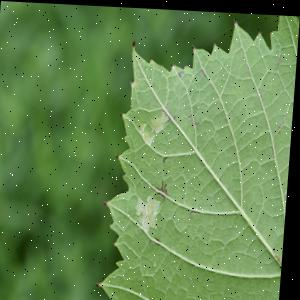Folha: (98, 5, 300, 300)
Fungo: (137, 191, 163, 231), (151, 100, 179, 131), (155, 176, 174, 199), (162, 101, 179, 120), (274, 109, 287, 133), (189, 110, 202, 123), (162, 176, 170, 190), (277, 50, 282, 67), (178, 66, 186, 76), (199, 65, 207, 74), (118, 108, 125, 118), (147, 52, 154, 60), (98, 278, 105, 286), (169, 57, 175, 66), (105, 197, 111, 205), (132, 35, 136, 46), (232, 12, 236, 23), (190, 40, 195, 48), (117, 150, 121, 156)
